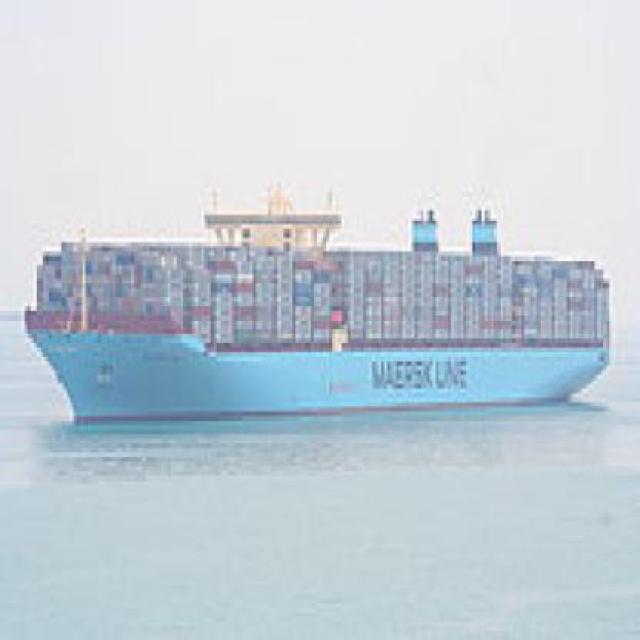container: (17, 193, 623, 436)
